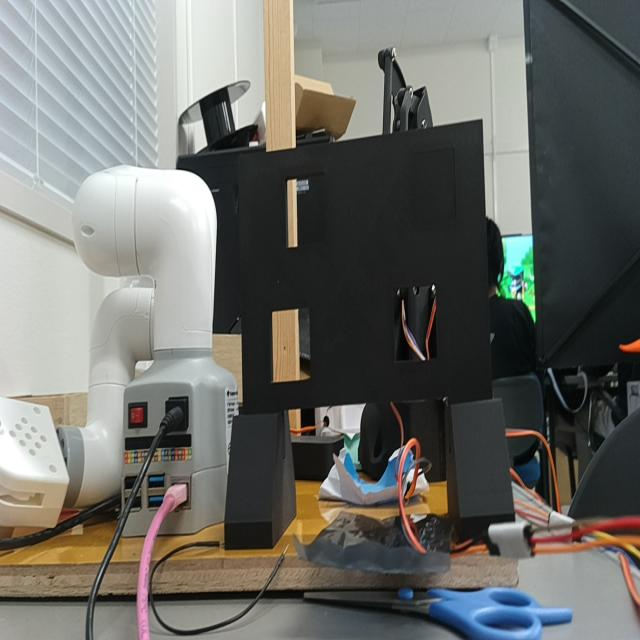Obstacle: (392, 280, 439, 367), (268, 308, 310, 381), (286, 173, 324, 248)
Wall: (238, 118, 492, 411)
